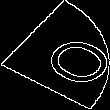O_NW: (8, 22, 102, 88)
